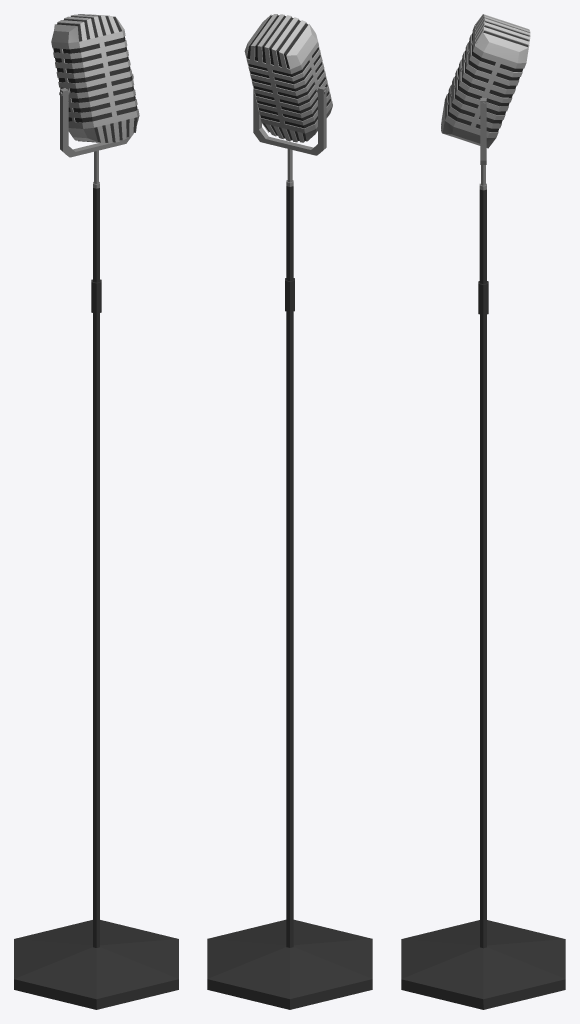
The model's file is Mic.fbx.
3 views of the same model, side by side, from view 1: azimuth 30°, elevation 25°; view 2: azimuth 150°, elevation 25°; view 3: azimuth 270°, elevation 25° (orthographic).
Parts seen in each view (by area): view 1: Mic.; view 2: Mic.; view 3: Mic..
Boxes of the visible parts, box(x1,y1,x2,y2) form: Mic.: box(14, 14, 178, 1009); Mic.: box(207, 14, 372, 1009); Mic.: box(401, 14, 565, 1009).
Bounding box in the file's own units: 0.2264 × 1.25 × 0.1961.
Materials: 1 (1 with a texture image).
